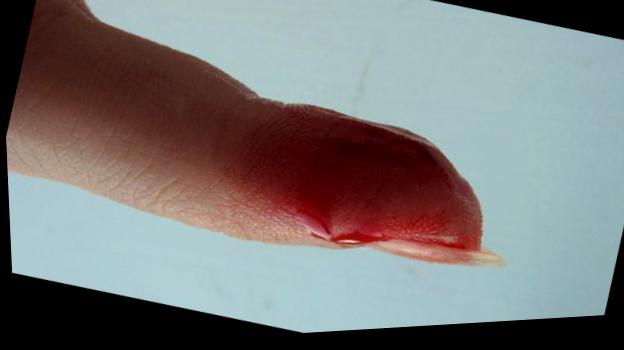Fire: (222, 106, 481, 271)
